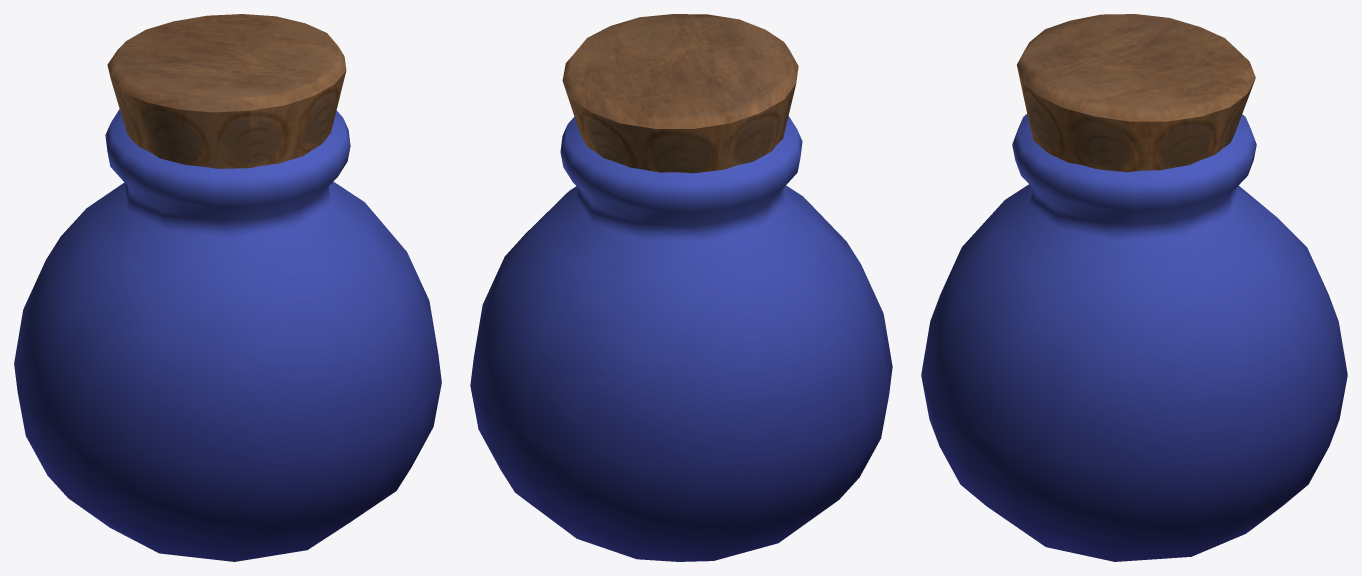
File: SM_Potion_Props_Bottle_Tiny_01_E.fbx
The picture shows the model from 3 angles, left to right: view 1: azimuth 30°, elevation 25°; view 2: azimuth 150°, elevation 25°; view 3: azimuth 270°, elevation 25°; orthographic projection.
Visible parts, largest first — view 1: SM_Potion_Props_Bottle_Tiny_01_E_LOD0; view 2: SM_Potion_Props_Bottle_Tiny_01_E_LOD0; view 3: SM_Potion_Props_Bottle_Tiny_01_E_LOD0.
Part boxes in pixels (left/top/right/bottom): SM_Potion_Props_Bottle_Tiny_01_E_LOD0: left=14, top=14, right=441, bottom=561; SM_Potion_Props_Bottle_Tiny_01_E_LOD0: left=470, top=14, right=892, bottom=561; SM_Potion_Props_Bottle_Tiny_01_E_LOD0: left=921, top=14, right=1347, bottom=561.
Size of what is drawn, in the model's own units: 7.1 by 8.99 by 7.1.
